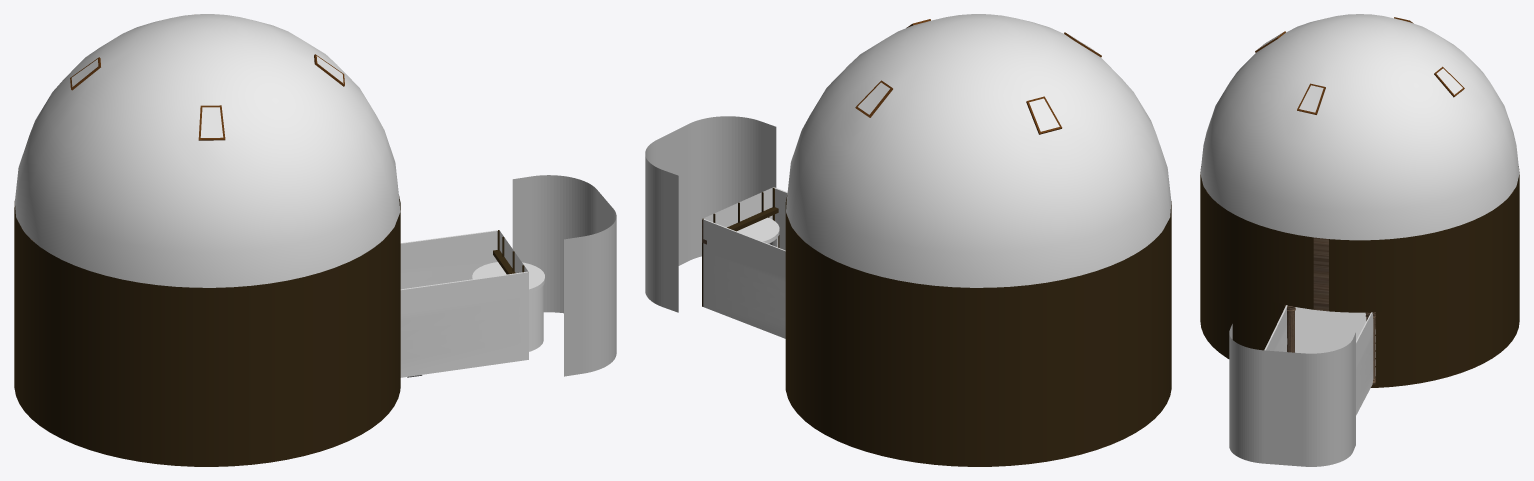
Rendered from VRLibrary.fbx.
The picture shows the model from 3 angles, left to right: view 1: azimuth 30°, elevation 25°; view 2: azimuth 150°, elevation 25°; view 3: azimuth 270°, elevation 25°; orthographic projection. The views are drawn at different scales.
Parts seen in each view (by area): view 1: Roof, Floor0, Floor1, Plane, Entry Door; view 2: Roof, Floor0, Floor1, Plane, Entry Door; view 3: Roof, Floor1, Floor0, Plane, Column.001.
Part boxes in pixels (x1,y1,x2,y2): Roof: (15,14,400,287); Floor0: (14,230,528,466); Floor1: (14,196,400,375); Plane: (512,175,616,376); Entry Door: (472,262,544,351); Roof: (786,14,1171,287); Floor0: (702,187,1171,466); Floor1: (785,195,1171,375); Plane: (645,116,776,312); Entry Door: (737,217,779,247); Roof: (1200,14,1519,240); Floor1: (1200,166,1519,312); Floor0: (1200,247,1519,415); Plane: (1229,324,1355,466); Column.001: (1284,305,1295,352).
Bounding box in the file's own units: 3128 × 2036 × 2000.
